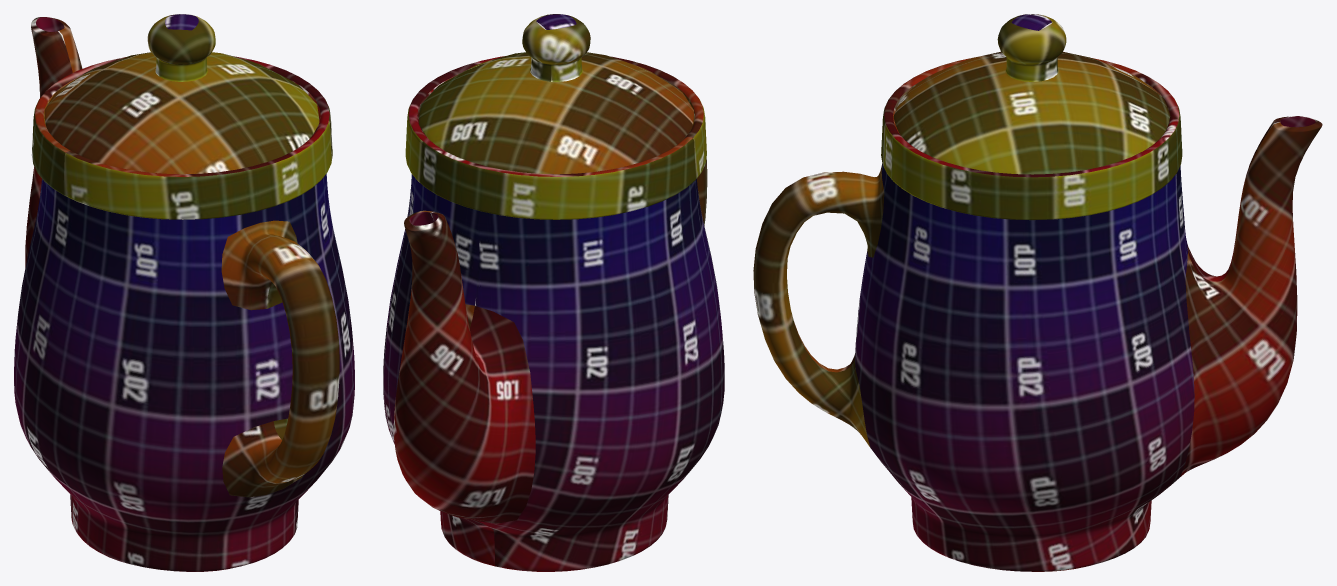
Rendered from mn_JUG-KETTLE_kitchen_UNWRAPPED.fbx.
3 renders of one model, left to right at view 1: azimuth 30°, elevation 25°; view 2: azimuth 150°, elevation 25°; view 3: azimuth 270°, elevation 25°, orthographic.
Visible parts, largest first — view 1: kettle.003; view 2: kettle.003; view 3: kettle.003.
Boxes of the visible parts, box(x1,y1,x2,y2) form: kettle.003: box(14, 14, 354, 571); kettle.003: box(383, 14, 724, 571); kettle.003: box(753, 14, 1322, 571).
Size of the model in its own units: 42.08 by 69.88 by 71.04.
